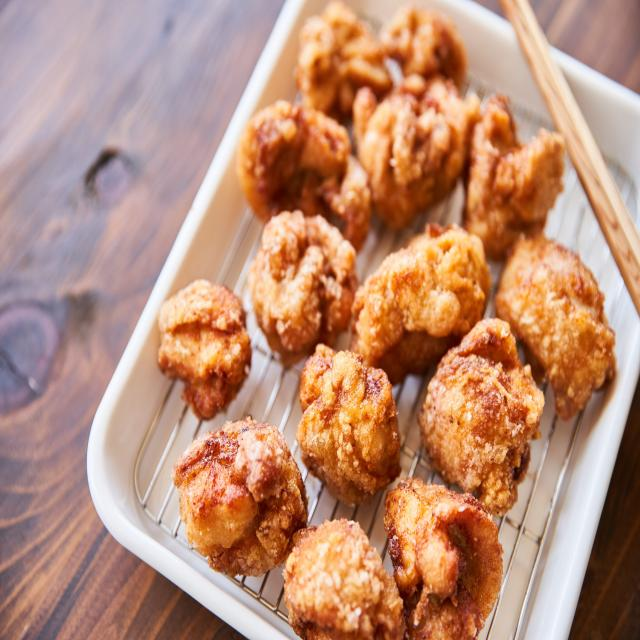Frango: (156, 0, 616, 640)
